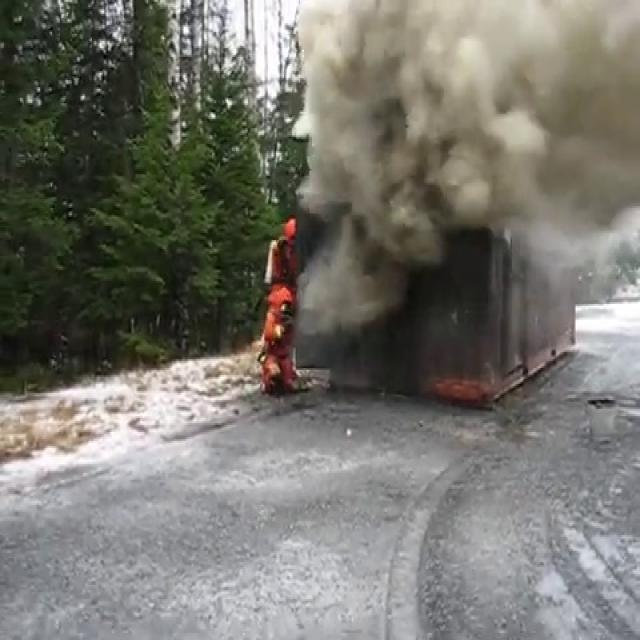Smoke: (270, 0, 640, 396)
